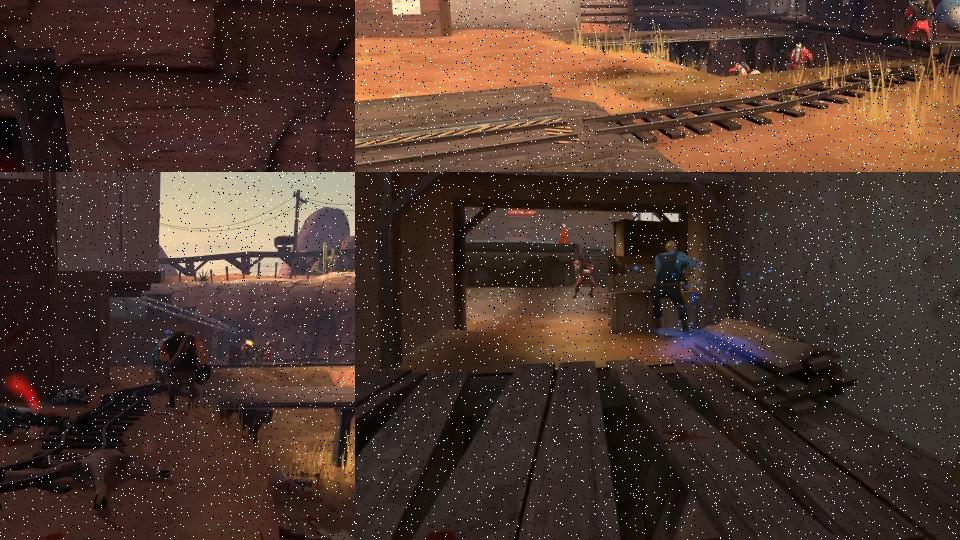Enemy: (0, 444, 172, 510), (159, 324, 213, 410), (648, 240, 696, 336), (901, 0, 935, 55), (778, 40, 816, 74), (573, 256, 596, 301), (50, 382, 90, 406), (846, 0, 867, 34), (728, 60, 762, 77)
